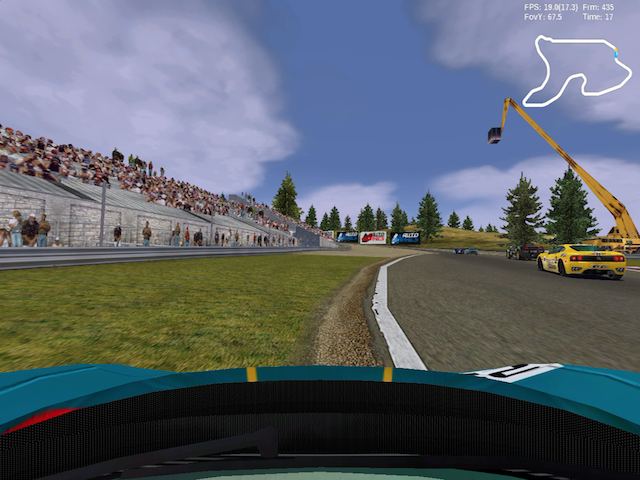Cavallo360: (536, 244, 626, 281)
Lynx220: (464, 249, 480, 256)
Spirit300: (507, 245, 545, 261)
